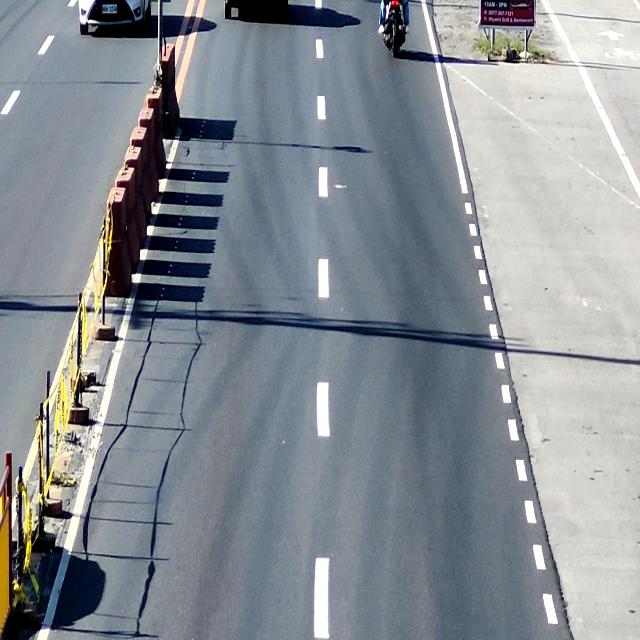Motorcycle: (376, 0, 412, 66)
